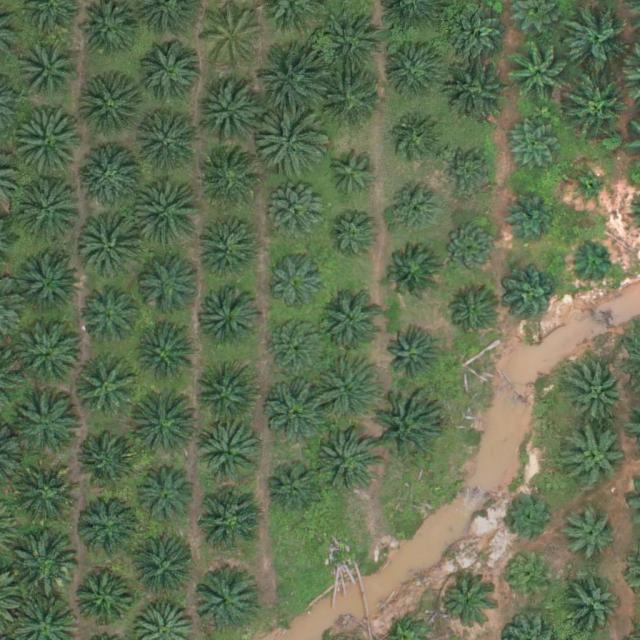Healthy: (14, 174, 84, 245), (13, 109, 83, 180), (133, 176, 203, 247), (137, 108, 207, 179), (201, 75, 271, 146), (257, 107, 327, 178), (257, 50, 327, 121), (564, 4, 634, 75), (371, 392, 442, 462), (311, 352, 381, 423), (9, 527, 79, 598), (564, 68, 634, 138), (131, 389, 201, 459), (77, 76, 140, 139), (80, 221, 143, 284), (199, 223, 262, 286), (314, 430, 377, 493), (267, 378, 330, 441), (18, 249, 80, 312), (19, 40, 81, 103), (81, 143, 143, 206), (139, 254, 201, 317), (143, 41, 205, 104), (200, 7, 262, 70), (197, 151, 259, 214), (200, 290, 262, 353), (267, 252, 330, 314), (323, 12, 385, 75), (322, 69, 384, 132), (383, 39, 445, 102), (447, 55, 509, 118), (509, 41, 571, 104), (193, 573, 255, 636), (71, 569, 133, 632), (562, 428, 625, 490), (558, 503, 620, 566), (195, 421, 257, 484), (195, 366, 257, 429), (135, 324, 197, 387), (134, 464, 196, 527), (79, 492, 141, 555), (77, 427, 139, 490), (321, 292, 383, 354), (562, 578, 624, 640), (134, 542, 196, 604), (568, 362, 630, 424), (199, 490, 261, 552), (74, 355, 136, 417), (18, 323, 80, 385), (18, 396, 80, 458), (13, 467, 75, 529), (391, 118, 446, 173), (322, 151, 377, 206), (324, 209, 379, 264), (384, 245, 439, 300), (82, 289, 137, 344), (450, 10, 505, 65), (508, 121, 563, 176), (504, 188, 559, 243), (506, 271, 561, 326), (502, 551, 557, 606), (387, 331, 442, 386), (271, 319, 326, 374), (446, 288, 500, 343), (443, 221, 497, 276), (443, 145, 497, 200), (387, 183, 441, 238), (272, 190, 326, 245), (442, 578, 496, 633), (503, 489, 557, 544), (268, 460, 322, 515)
Small: (571, 240, 618, 287), (571, 170, 610, 210)
